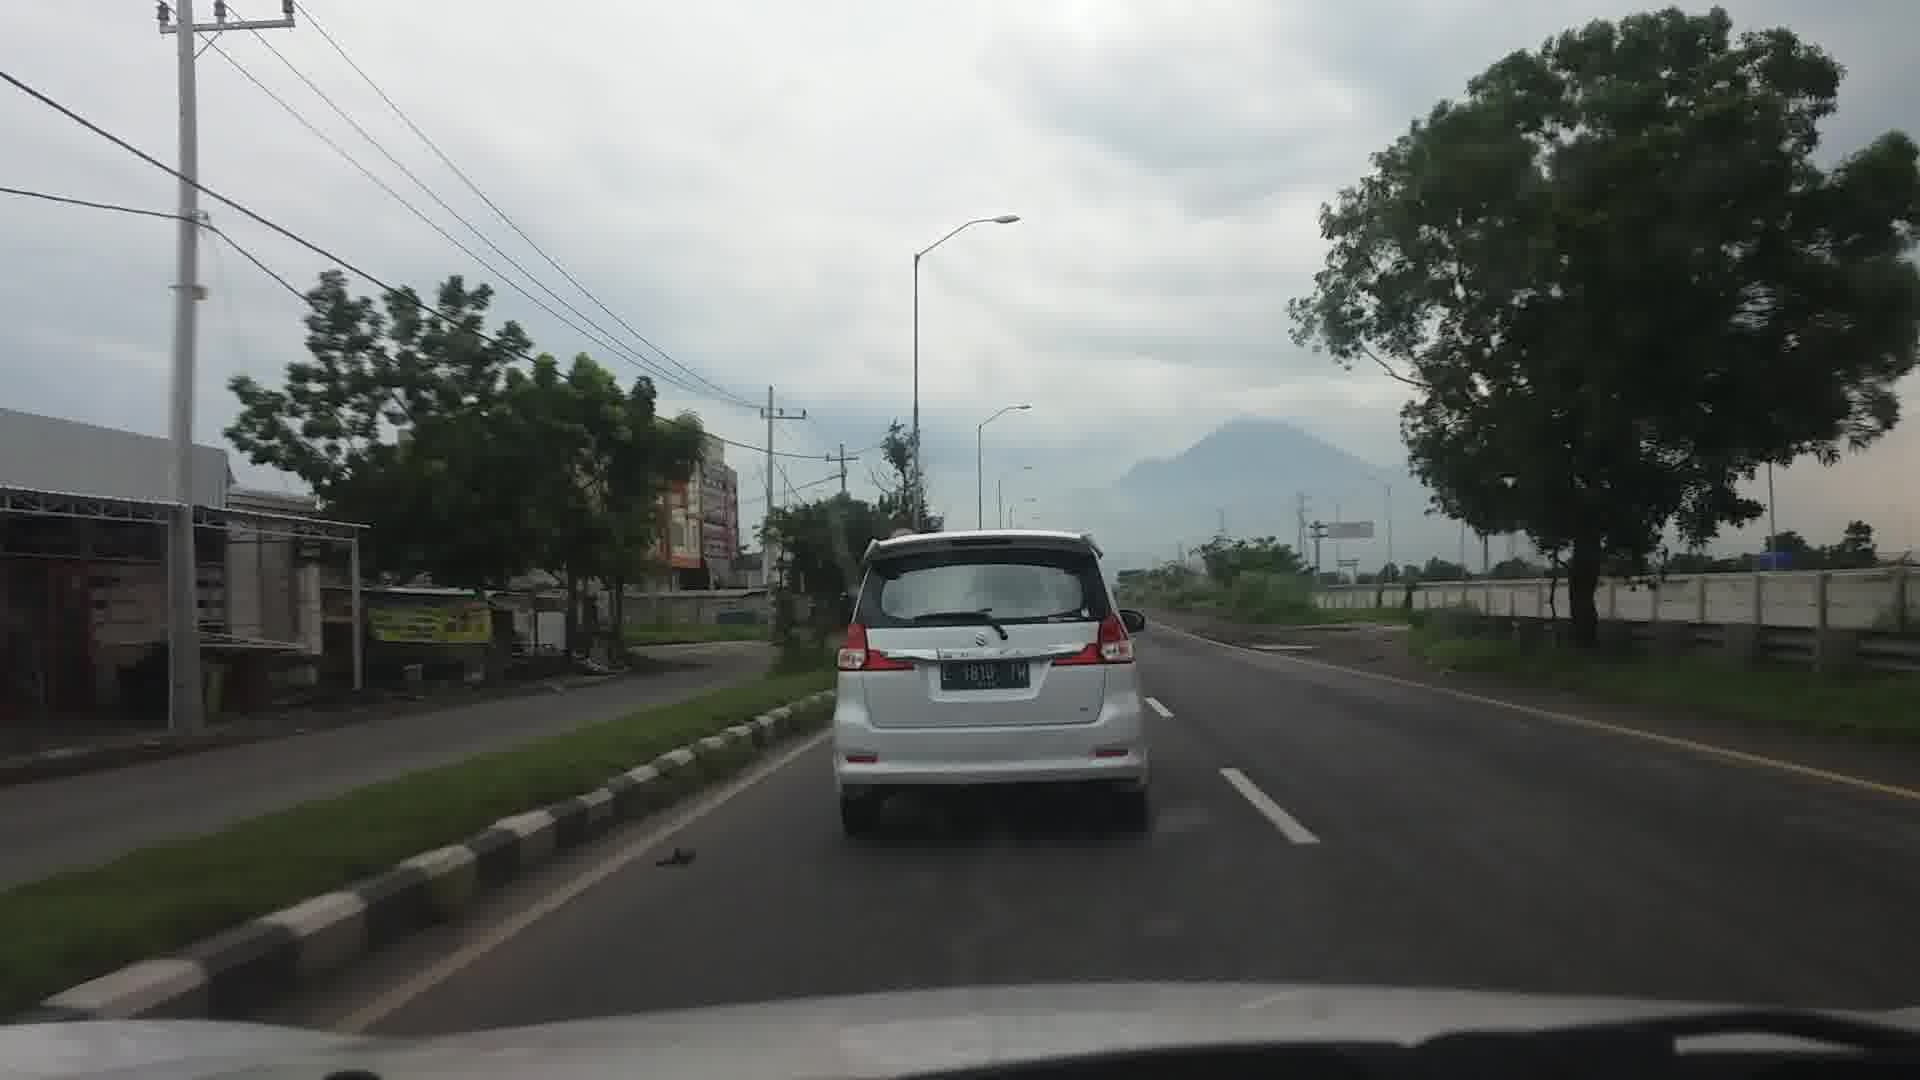plate_positive: (942, 662, 1030, 690)
